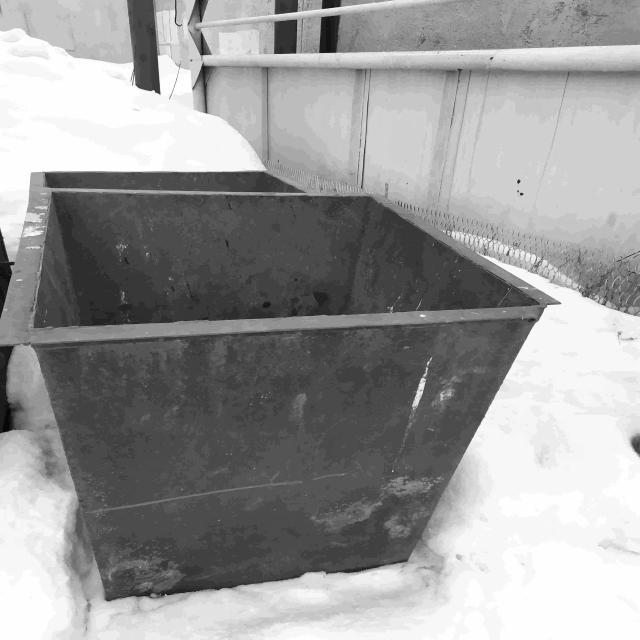Trashcan: (6, 165, 564, 618)
